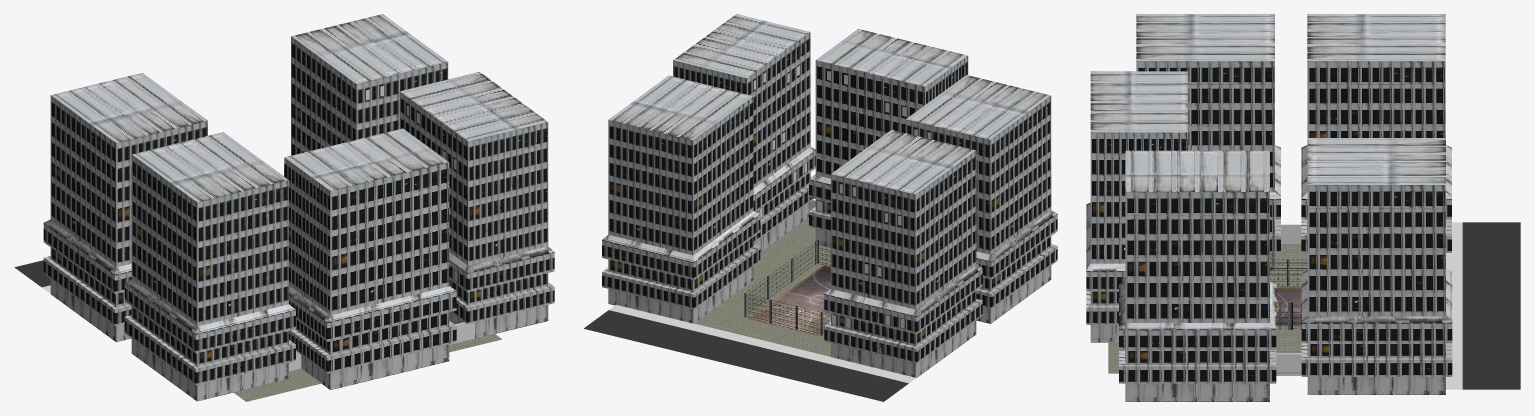
File: Basketball_court.fbx
3 views of the same model, side by side, from view 1: azimuth 30°, elevation 25°; view 2: azimuth 150°, elevation 25°; view 3: azimuth 270°, elevation 25° (orthographic). The views are drawn at different scales.
Visible parts, largest first — view 1: EdificioA.001, EdificioA.004, EdificioA.003, EdificioA, EdificioA.002, Plane, Plane.002; view 2: EdificioA, EdificioA.002, EdificioA.001, EdificioA.003, EdificioA.004, Plane.002, Plane, Rejas; view 3: EdificioA.003, EdificioA.002, EdificioA, EdificioA.001, EdificioA.004, Plane.002, Plane, Rejas, Pared.001, Pared.
Part boxes in pixels (bbox=[...]): EdificioA.001: bbox=[124, 132, 295, 401]; EdificioA.004: bbox=[284, 128, 456, 389]; EdificioA.003: bbox=[399, 72, 554, 338]; EdificioA: bbox=[43, 73, 207, 342]; EdificioA.002: bbox=[284, 14, 448, 176]; Plane: bbox=[233, 333, 501, 401]; Plane.002: bbox=[14, 260, 50, 293]; EdificioA: bbox=[824, 129, 982, 377]; EdificioA.002: bbox=[602, 75, 760, 323]; EdificioA.001: bbox=[905, 75, 1057, 323]; EdificioA.003: bbox=[673, 14, 815, 251]; EdificioA.004: bbox=[809, 29, 968, 247]; Plane.002: bbox=[584, 305, 916, 401]; Plane: bbox=[694, 217, 830, 356]; Rejas: bbox=[744, 240, 830, 335]; EdificioA.003: bbox=[1119, 150, 1276, 401]; EdificioA.002: bbox=[1301, 138, 1452, 394]; EdificioA: bbox=[1301, 14, 1451, 267]; EdificioA.001: bbox=[1136, 14, 1280, 270]; EdificioA.004: bbox=[1086, 71, 1188, 342]; Plane.002: bbox=[1446, 222, 1520, 389]; Plane: bbox=[1108, 244, 1307, 373]; Rejas: bbox=[1270, 259, 1307, 329]; Pared.001: bbox=[1276, 353, 1301, 375]; Pared: bbox=[1281, 224, 1301, 243].
Bounding box in the file's own units: 1420 × 803 × 1433.
7 materials, 4 textured.
